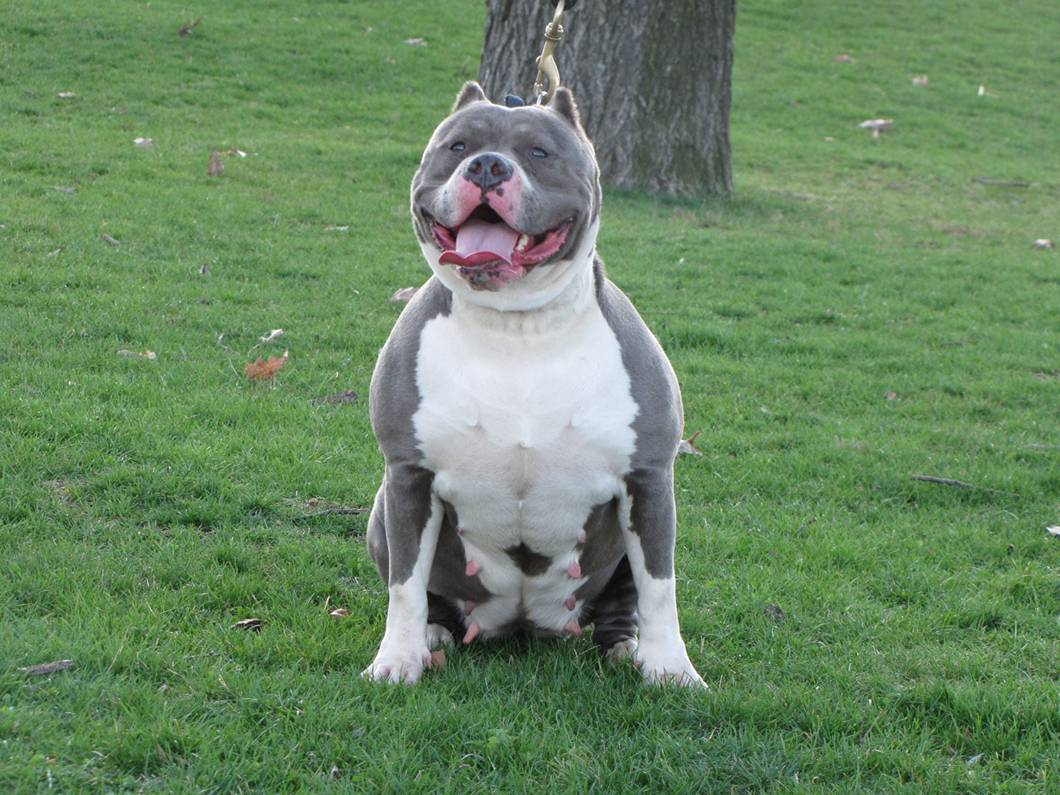am_pit_bull_terrier: (359, 79, 706, 692)
